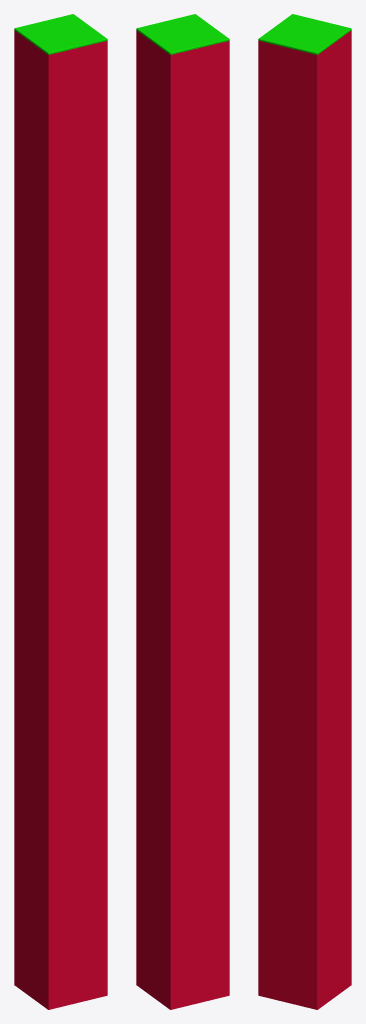
The model's file is wall_long3.glb.
3 renders of one model, left to right at view 1: azimuth 30°, elevation 25°; view 2: azimuth 210°, elevation 25°; view 3: azimuth 330°, elevation 25°, orthographic.
Parts seen in each view (by area): view 1: Cube.004; view 2: Cube.004; view 3: Cube.004.
Boxes of the visible parts, x1,y1,x2,y2 form: Cube.004: (14,14,107,1009); Cube.004: (136,14,229,1009); Cube.004: (258,14,351,1009).
Size of the model in its own units: 32.71 by 504 by 32.71.
